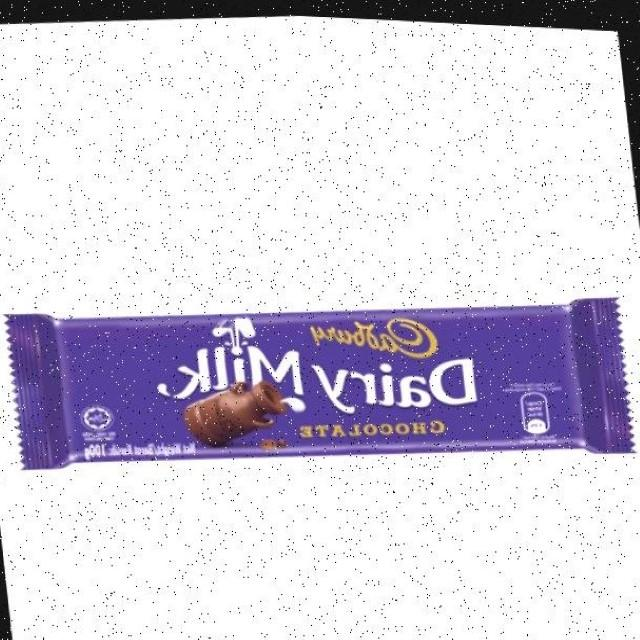cadbury_chocolate: (22, 315, 618, 457)
